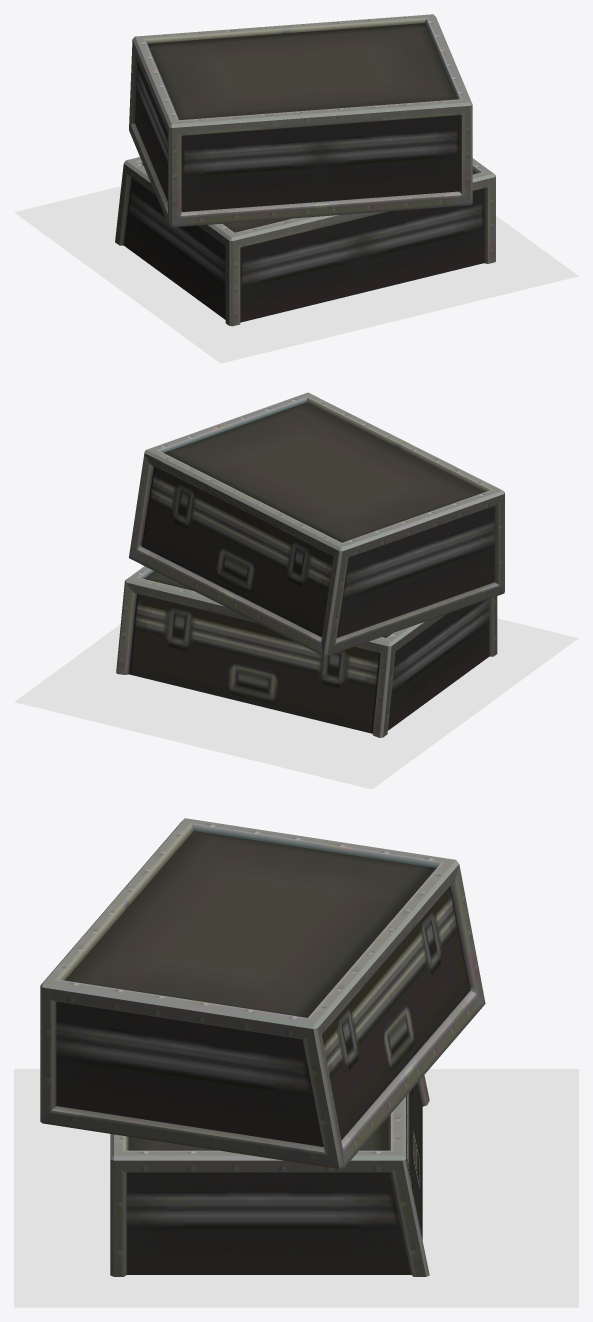
File: obj_camerabox (merge).fbx
3 renders of one model, top to bottom at view 1: azimuth 30°, elevation 25°; view 2: azimuth 150°, elevation 25°; view 3: azimuth 270°, elevation 25°, orthographic. The views are drawn at different scales.
Visible parts, largest first — view 1: obj_camerabox, shadow; view 2: obj_camerabox, shadow; view 3: obj_camerabox, shadow.
Boxes of the visible parts, left/top/right/bottom form: obj_camerabox: left=115, top=14, right=495, bottom=326; shadow: left=14, top=186, right=578, bottom=363; obj_camerabox: left=116, top=392, right=504, bottom=737; shadow: left=14, top=618, right=578, bottom=789; obj_camerabox: left=40, top=818, right=485, bottom=1276; shadow: left=14, top=1069, right=578, bottom=1307.
Bounding box in the file's own units: 1.2 × 0.6547 × 1.2.
2 materials, 2 textured.
